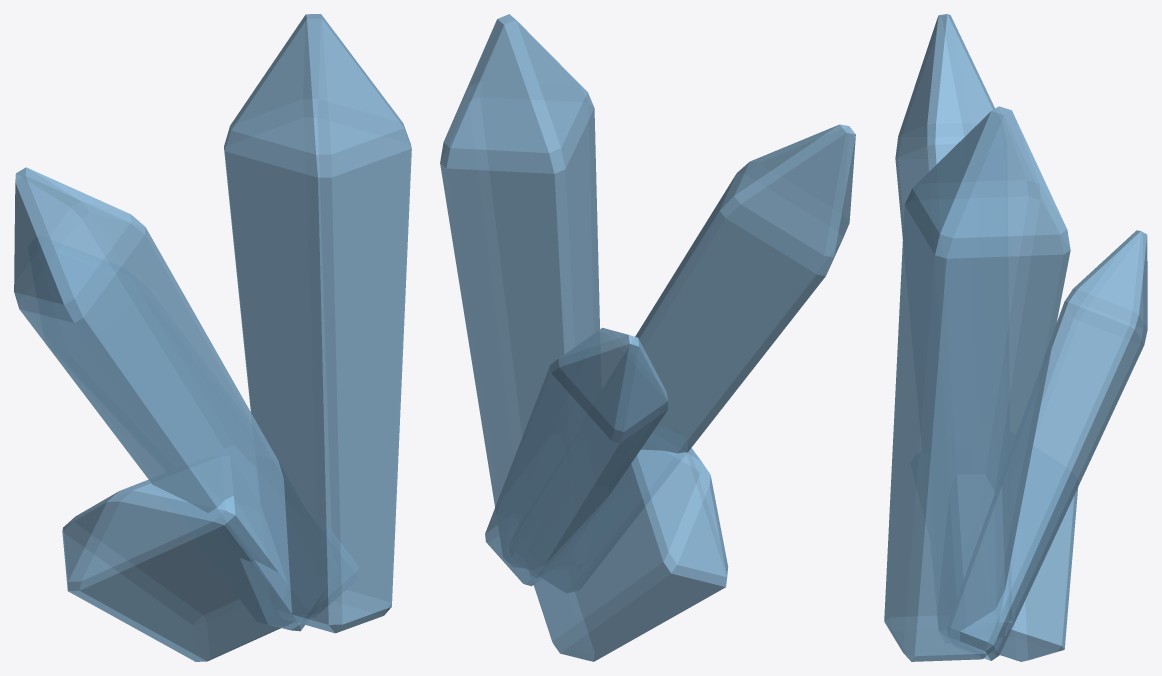
File: Crystal4.glb
3 renders of one model, left to right at view 1: azimuth 30°, elevation 25°; view 2: azimuth 150°, elevation 25°; view 3: azimuth 270°, elevation 25°, orthographic. The views are drawn at different scales.
Parts seen in each view (by area): view 1: Crystal.001; view 2: Crystal.001; view 3: Crystal.001.
Part boxes in pixels (left/top/right/bottom): Crystal.001: left=14, top=14, right=411, bottom=661; Crystal.001: left=440, top=14, right=855, bottom=661; Crystal.001: left=884, top=14, right=1147, bottom=661.
Bounding box in the file's own units: 0.9593 × 1.45 × 0.5795.
